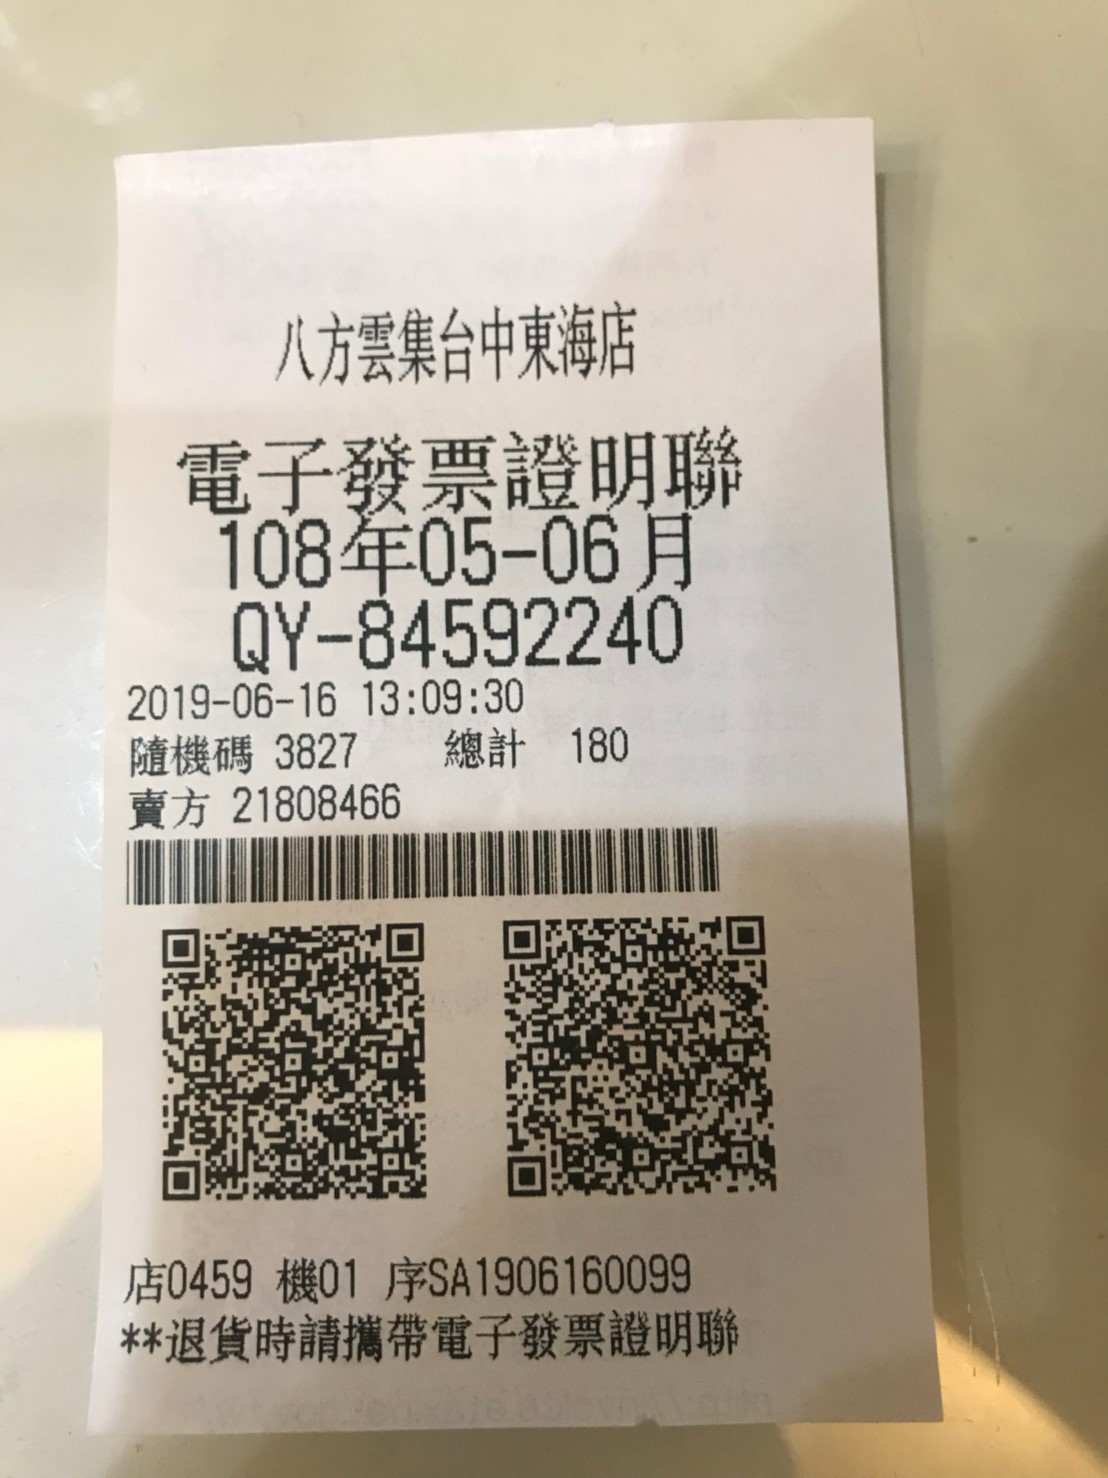Date_New: (214, 510, 697, 591)
Number_New: (353, 591, 686, 667)
